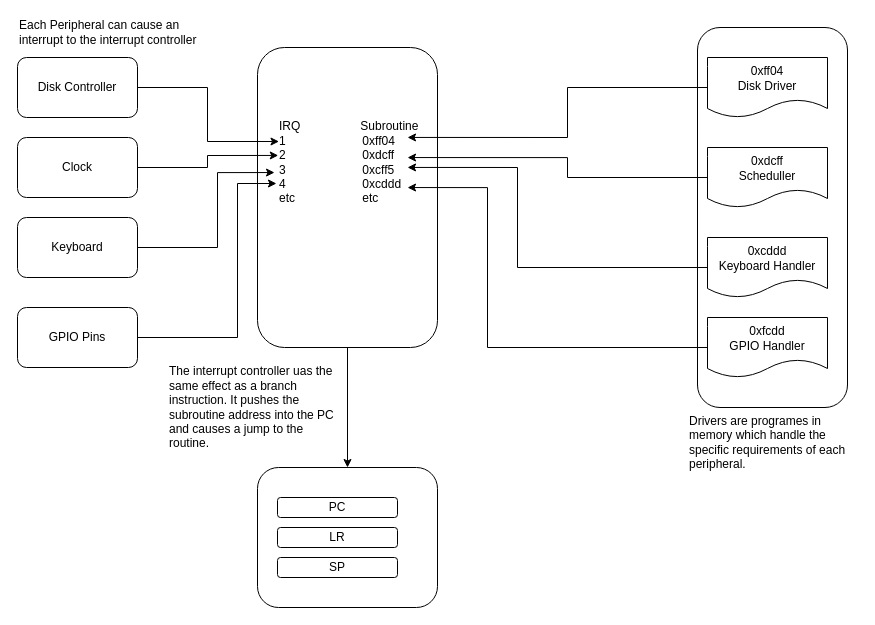
Some shapes in this 875 by 625 pixel diagram are drawn without their labels. The box of each missing label's shape, as (x1, y1, x2, y2) in pixels:
CPU: (256, 466, 438, 608)
Drivers in memory: (696, 26, 848, 408)
Interrupt controller: (256, 46, 438, 348)
